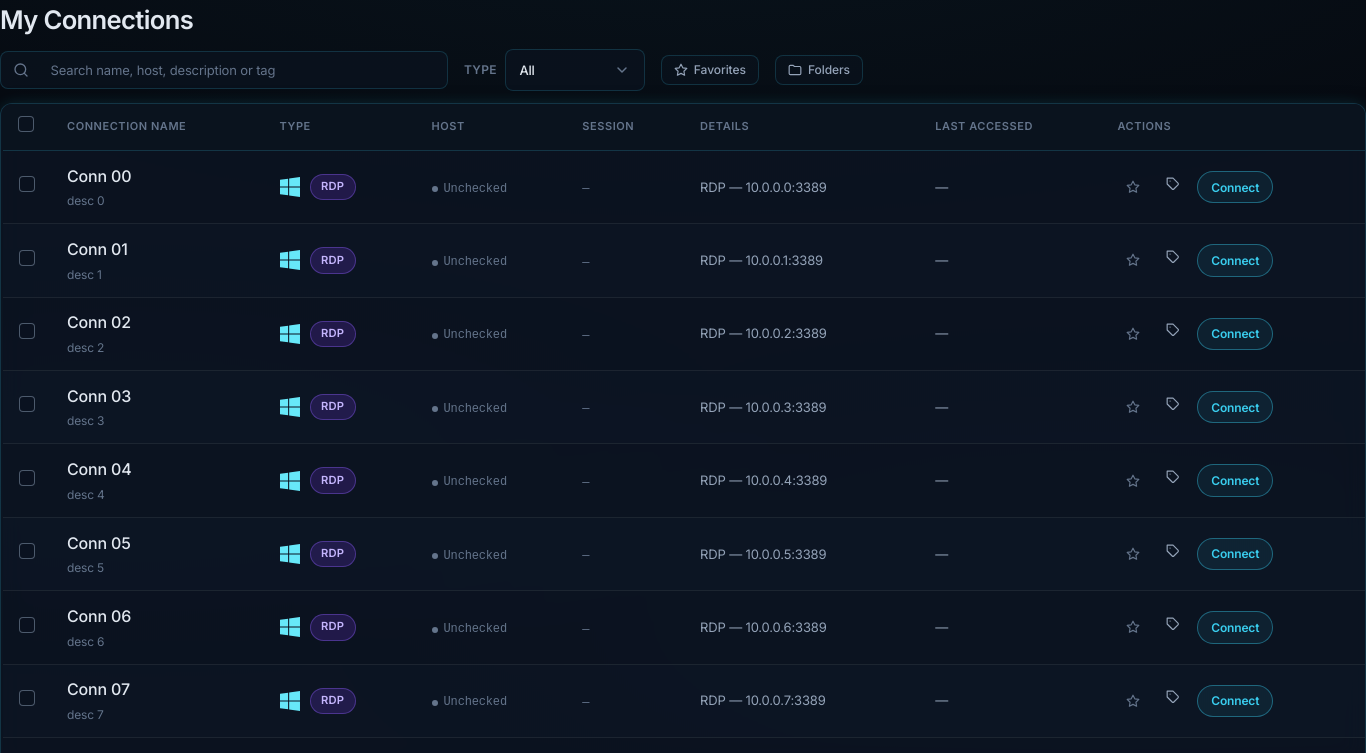
it: Dashboard › resets page to 1 when search changes
This screenshot has width=1366, height=753.
Check: the text "Conn 00" is shown, box [67,166,132,186]
// Filter down
Type "Conn 5" into the field with placeholder "Search name, host, description or tag".
click(236, 70); type("Conn 5")  # box [37,52,435,88]
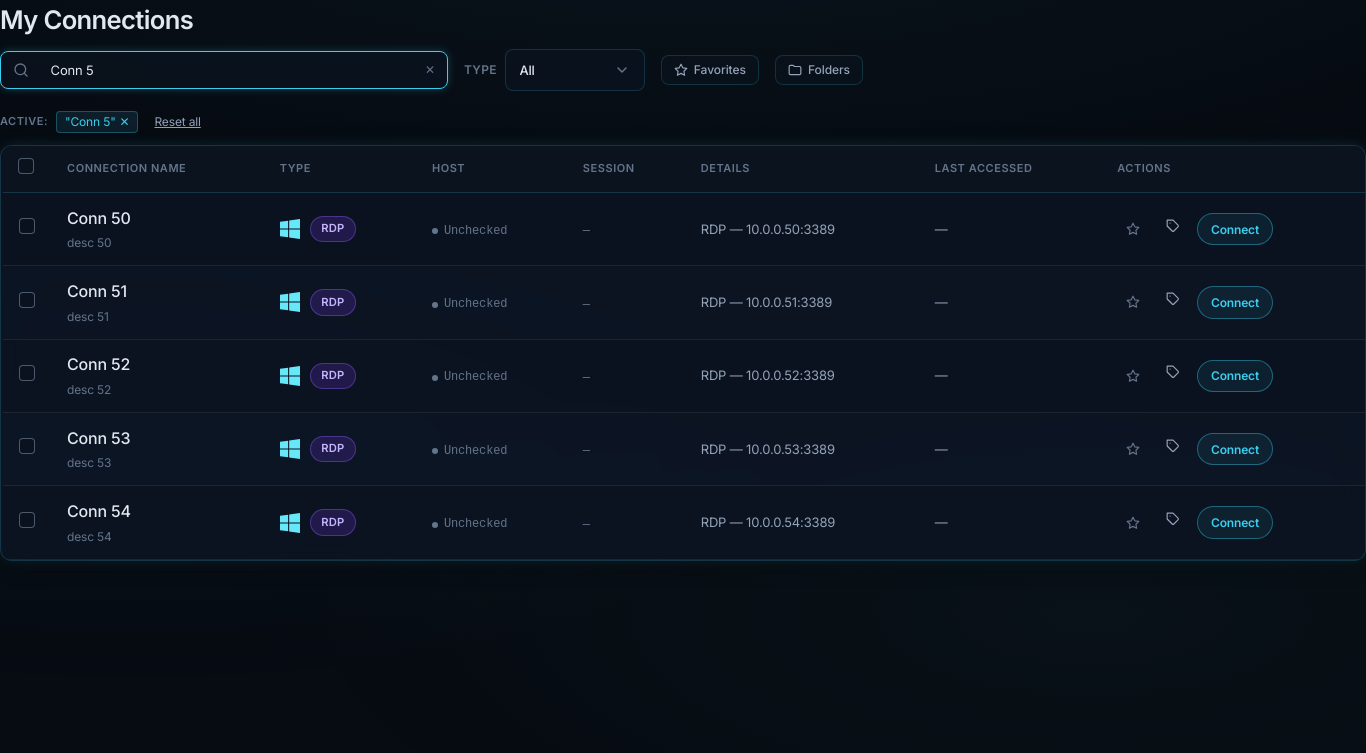
Check: the text "Conn 50" is shown, box [67,208,131,228]
Check: the text "Conn 00" is gone
